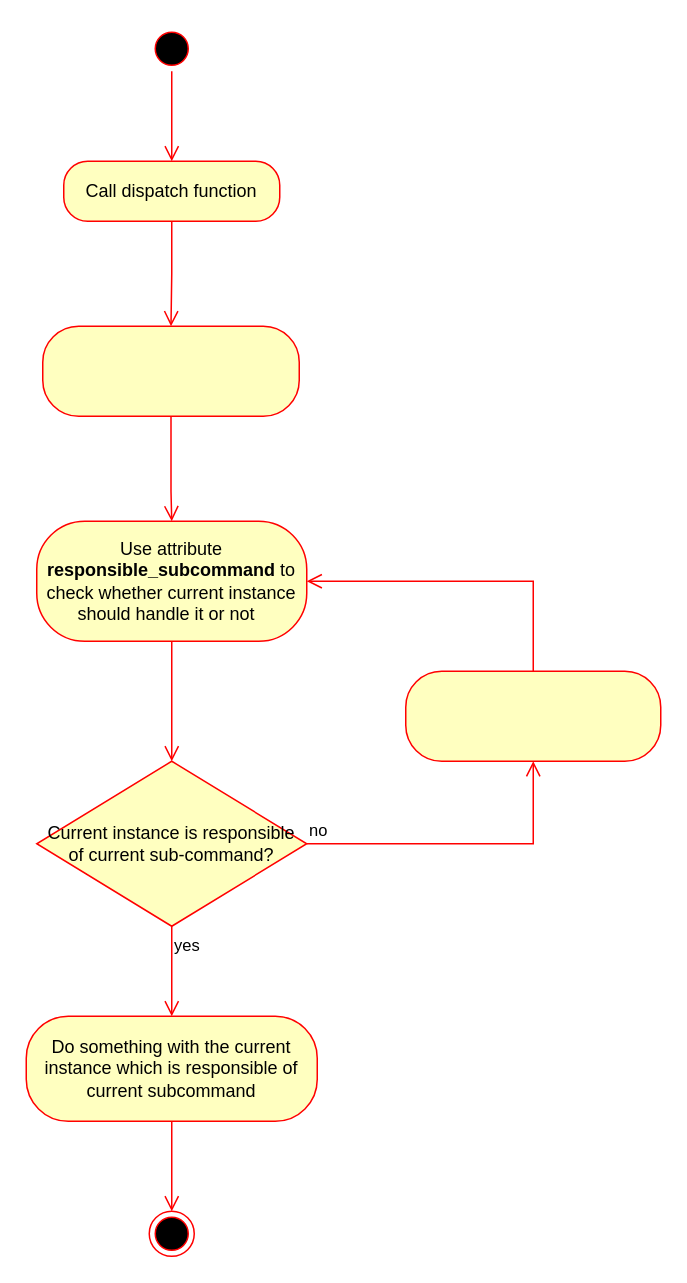
Some shapes in this 687 by 1283 pixel diagram are drawn without their labels. Each missing label, with the centre of its shape:
Get the first instance of class CommandProcessor: the point at 170,370
Get the next instance of class CommandProcessor: the point at 532,715
